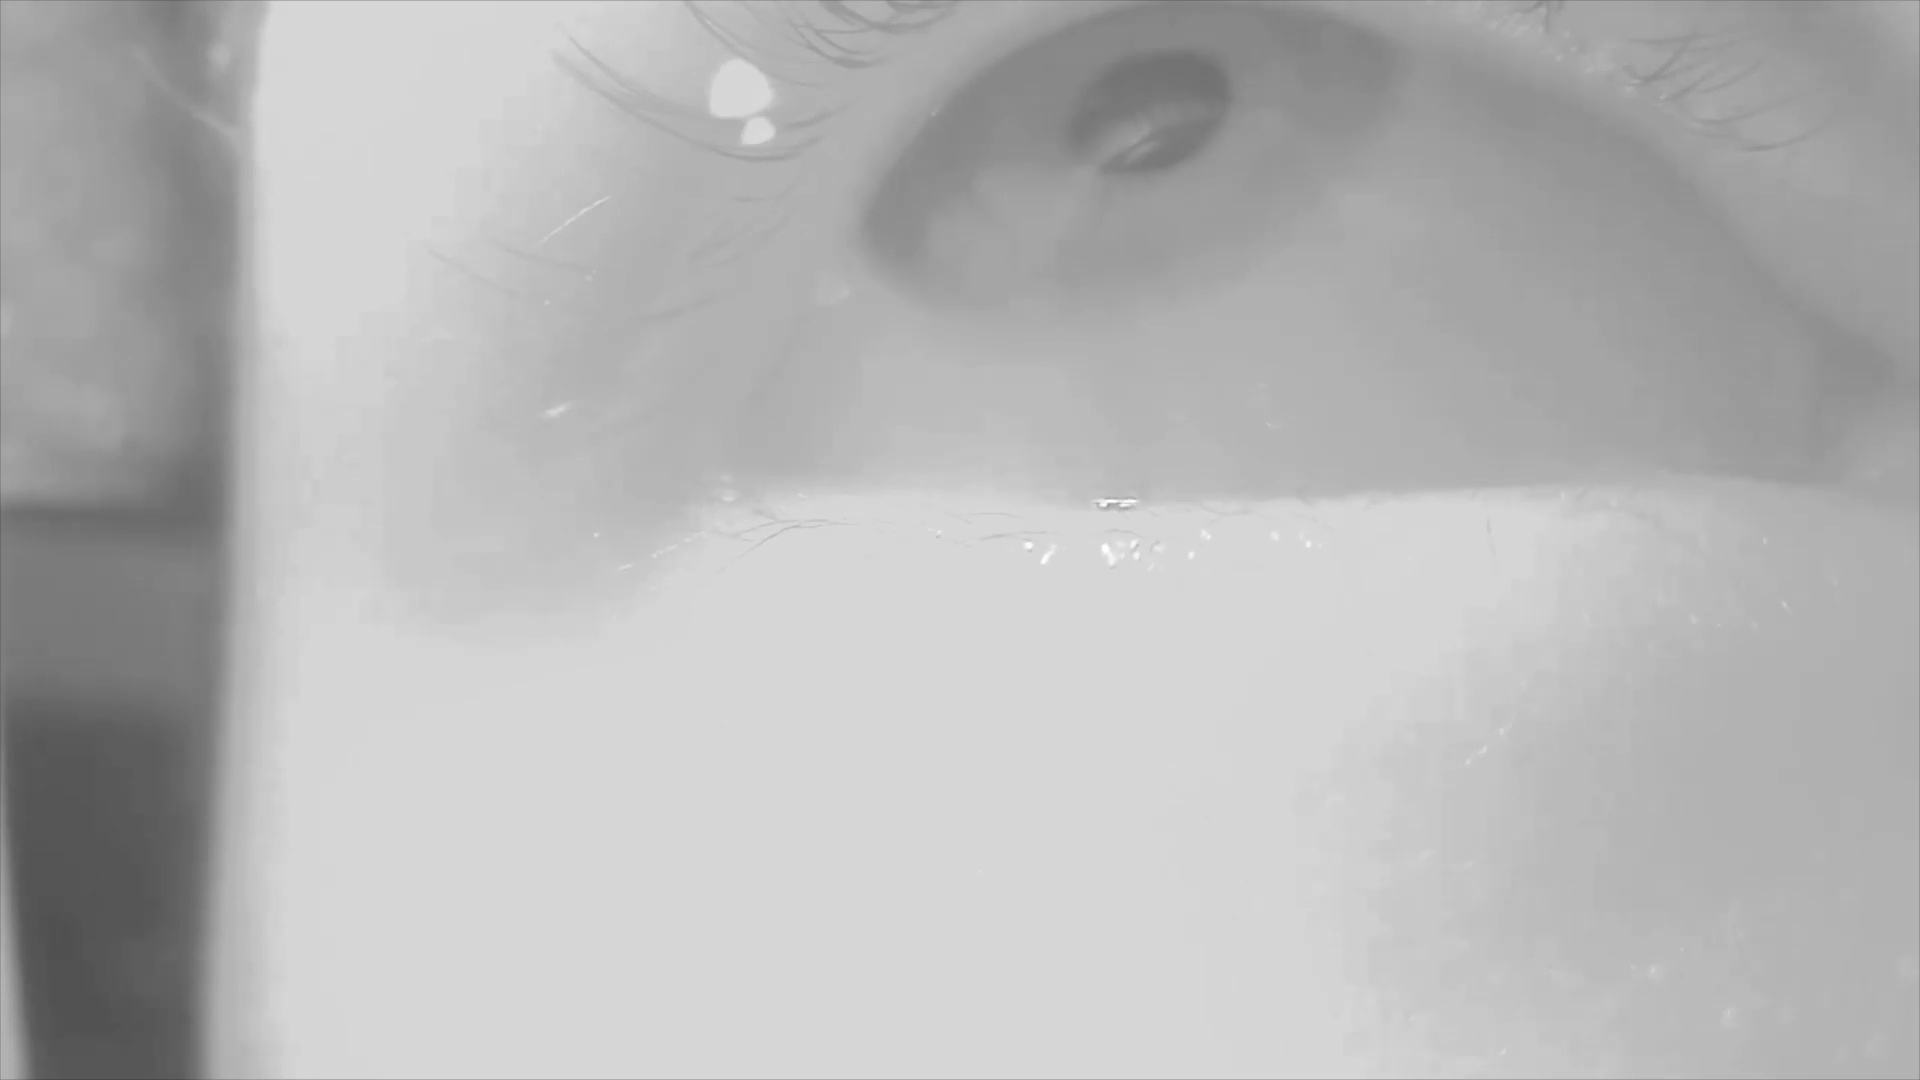pupil: (1071, 51, 1230, 173)
